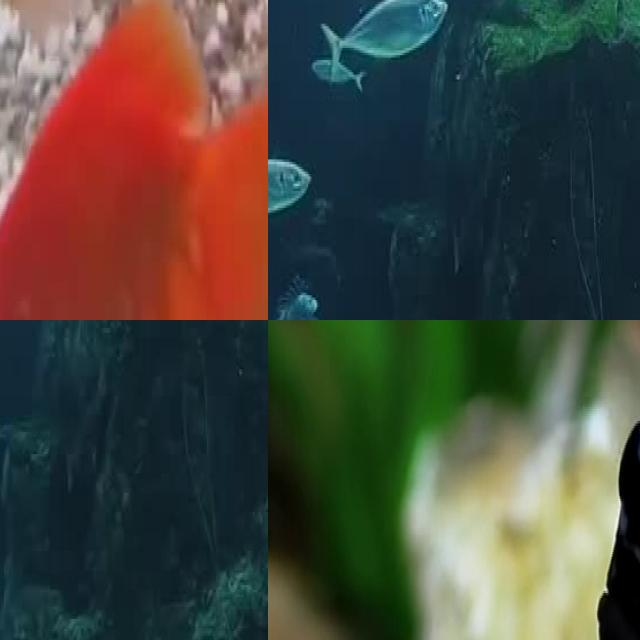fish: (0, 0, 268, 320), (268, 154, 312, 232)
